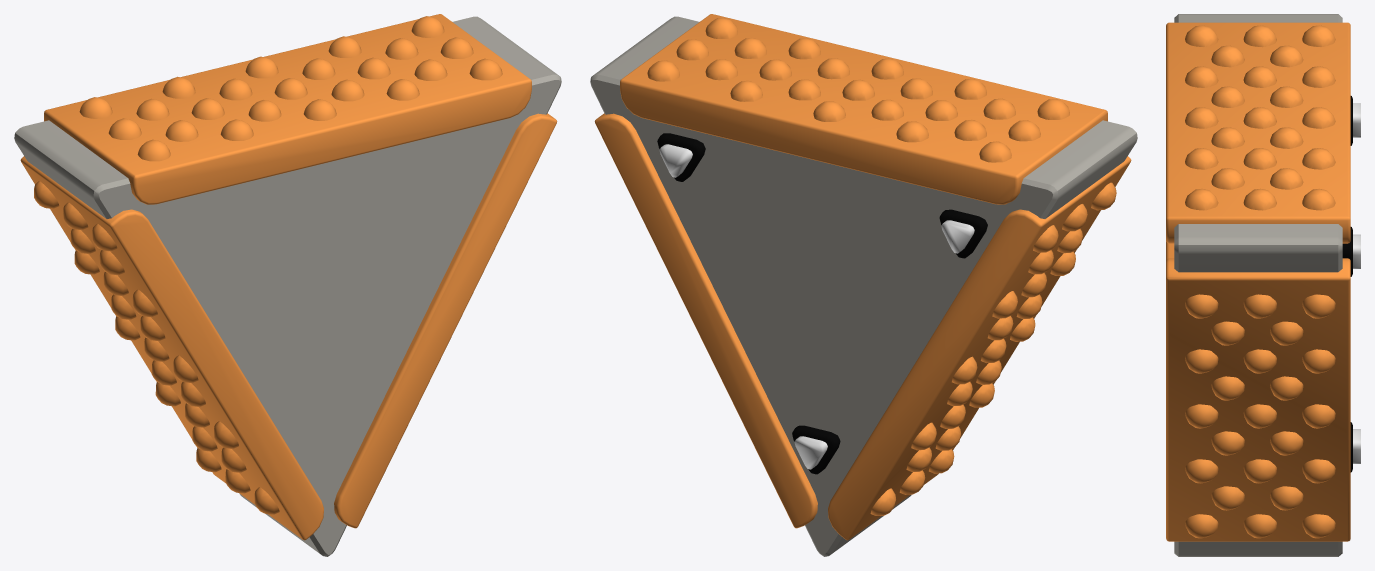
Rendered from RotatingPlatform_triangle.fbx.
The picture shows the model from 3 angles, left to right: view 1: azimuth 30°, elevation 25°; view 2: azimuth 150°, elevation 25°; view 3: azimuth 270°, elevation 25°; orthographic projection.
Visible parts, largest first — view 1: platforms, triangle.001; view 2: platforms, triangle.001, small_lights; view 3: platforms, triangle.001, small_lights.
Part boxes in pixels (box(x1,y1,x2,y2)): platforms: box(20, 14, 557, 540); triangle.001: box(14, 16, 561, 556); platforms: box(594, 14, 1131, 540); triangle.001: box(590, 16, 1137, 556); small_lights: box(659, 144, 974, 469); platforms: box(1166, 22, 1350, 541); triangle.001: box(1174, 14, 1352, 556); small_lights: box(1353, 103, 1360, 463).
Bounding box in the file's own units: 169 × 154 × 60.25.
